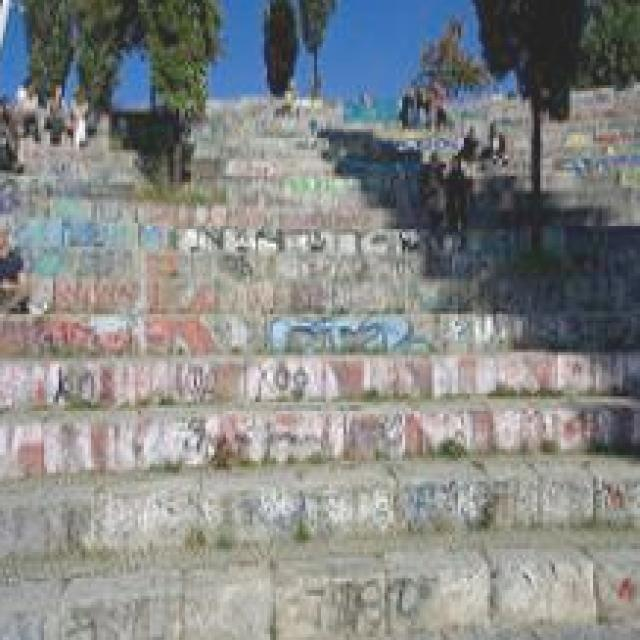upstair: (7, 304, 640, 630)
